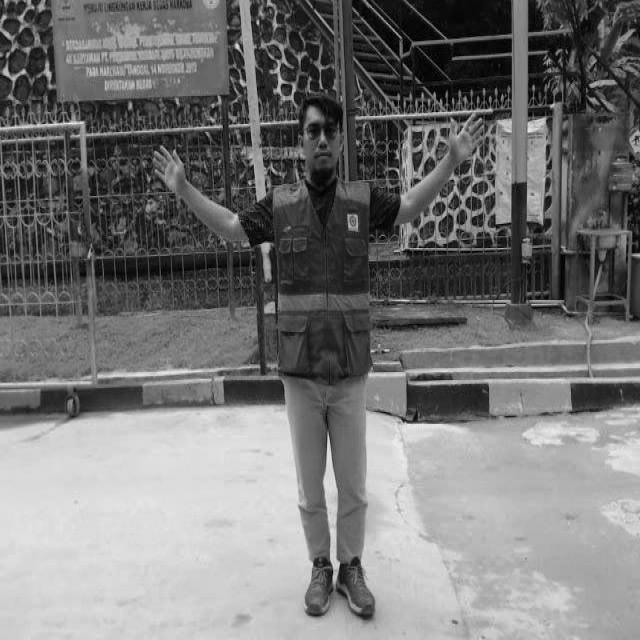10: (153, 95, 492, 614)
11: (271, 175, 376, 381)
7: (151, 143, 193, 199), (448, 110, 490, 166)
8: (292, 95, 351, 173)
helmet_white: (332, 557, 378, 623), (304, 555, 336, 617)
